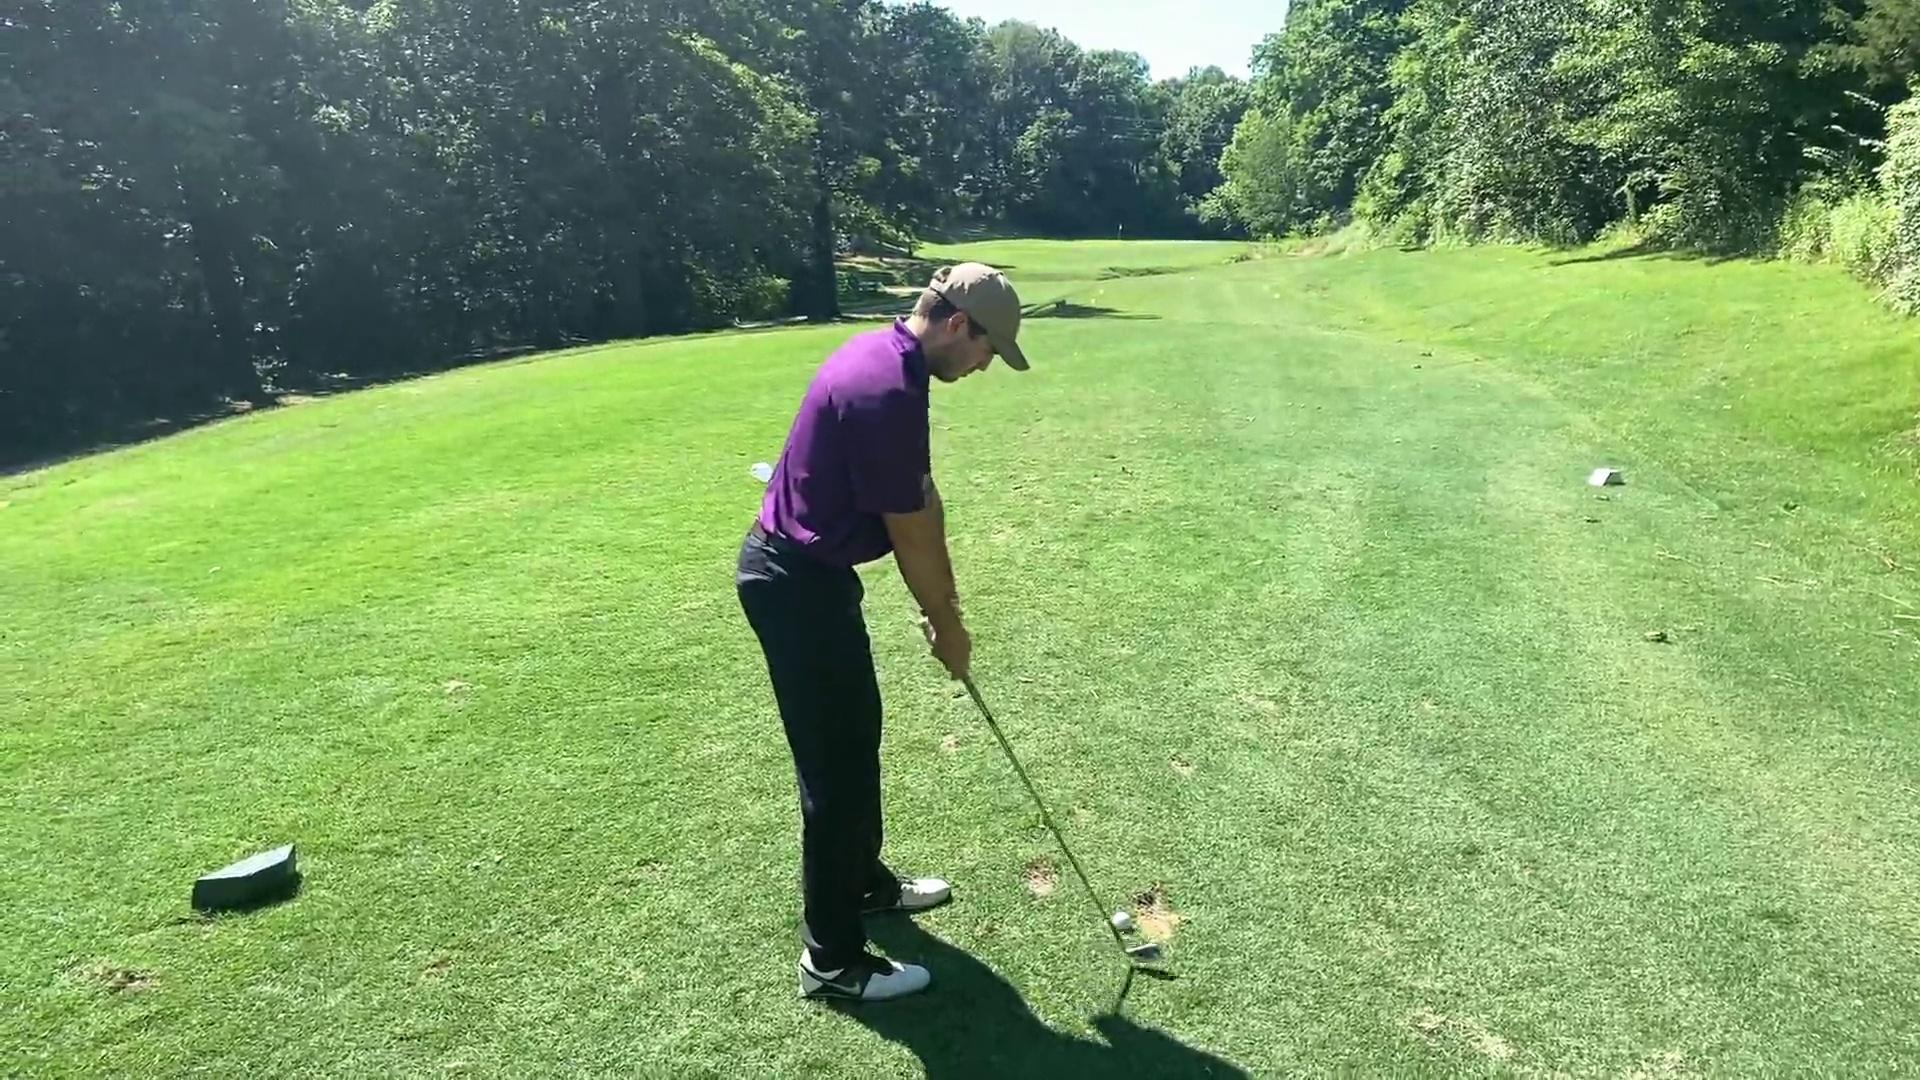ClubHead: (1118, 938, 1178, 971)
GolfBall: (1112, 909, 1134, 930)
